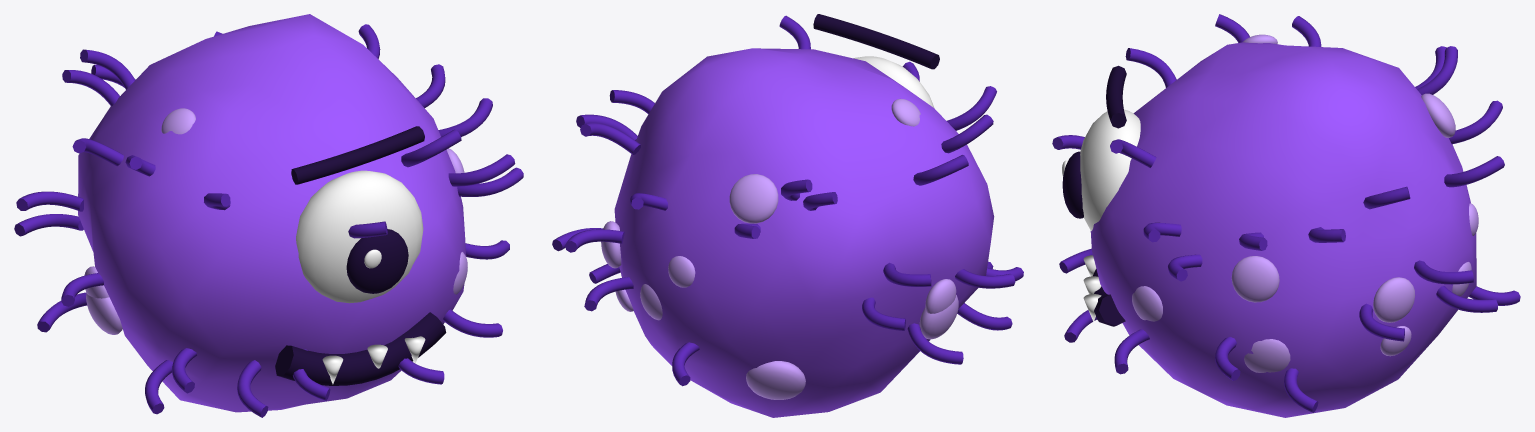
Rendered from microbe_0.glb.
The picture shows the model from 3 angles, left to right: view 1: azimuth 30°, elevation 25°; view 2: azimuth 150°, elevation 25°; view 3: azimuth 270°, elevation 25°; orthographic projection. The views are drawn at different scales.
Visible parts, largest first — view 1: Icosphere, Sphere.013, tube.031, Sphere.014, tube.030, tube.026, tube.012, Sphere.002, tube.011, tube.020, tube.027, tube.024 (+15 smaller); view 2: Icosphere, tube.030, Sphere.008, Sphere.007, Sphere.013, Sphere.002, tube.013, tube.003, Sphere.011, tube.004, tube.015, tube.019 (+17 smaller); view 3: Icosphere, Sphere.013, Sphere.004, Sphere, Sphere.005, Sphere.014, tube.030, tube.005, tube.006, Sphere.010, Sphere.008, tube.004 (+19 smaller).
Boxes of the visible parts, x1,y1,x2,y2 form: Icosphere: [78, 14, 466, 412]; Sphere.013: [296, 170, 423, 303]; tube.031: [275, 312, 446, 385]; Sphere.014: [346, 229, 408, 293]; tube.030: [291, 126, 424, 184]; tube.026: [448, 154, 515, 186]; tube.012: [16, 191, 83, 211]; Sphere.002: [86, 293, 122, 334]; tube.011: [14, 214, 83, 236]; tube.020: [237, 360, 268, 417]; tube.027: [457, 167, 523, 196]; tube.024: [401, 129, 461, 167]; Icosphere: [614, 48, 994, 417]; tube.030: [813, 14, 939, 69]; Sphere.008: [729, 174, 778, 223]; Sphere.007: [746, 361, 805, 399]; Sphere.013: [853, 56, 934, 108]; Sphere.002: [919, 295, 958, 339]; tube.013: [907, 323, 963, 364]; tube.003: [580, 123, 640, 154]; Sphere.011: [925, 279, 956, 313]; tube.004: [565, 229, 624, 252]; tube.015: [955, 269, 1015, 288]; tube.019: [947, 86, 996, 130]; Icosphere: [1090, 42, 1476, 417]; Sphere.013: [1080, 109, 1140, 230]; Sphere.004: [1231, 256, 1279, 302]; Sphere: [1373, 277, 1415, 322]; Sphere.005: [1244, 339, 1290, 372]; Sphere.014: [1062, 151, 1083, 218]; tube.030: [1106, 65, 1126, 128]; tube.005: [1436, 286, 1497, 312]; tube.006: [1444, 156, 1504, 187]; Sphere.010: [1132, 286, 1162, 321]; Sphere.008: [1421, 93, 1455, 137]; tube.004: [1414, 260, 1473, 284].
Bounding box in the file's own units: 2.9 × 2.32 × 2.81.
